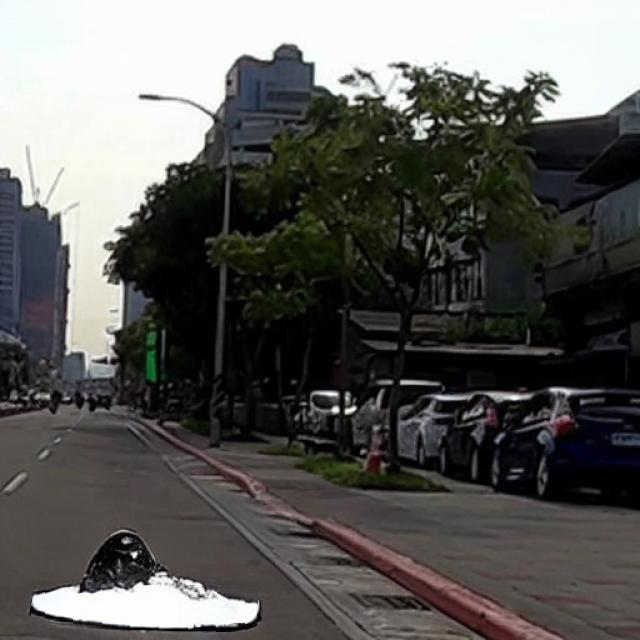puddle: (33, 583, 259, 632)
